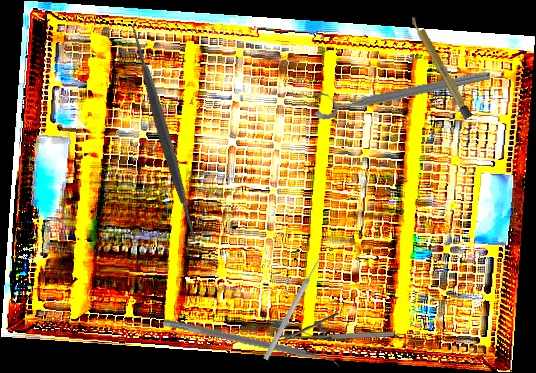Fixation Ring: (310, 56, 492, 122)
Needle Holder: (279, 313, 394, 340)
Pusher: (262, 252, 325, 362)
Scalpel Handle: (408, 13, 473, 120)
Spatula Surgical: (45, 15, 283, 252), (161, 318, 342, 372)
